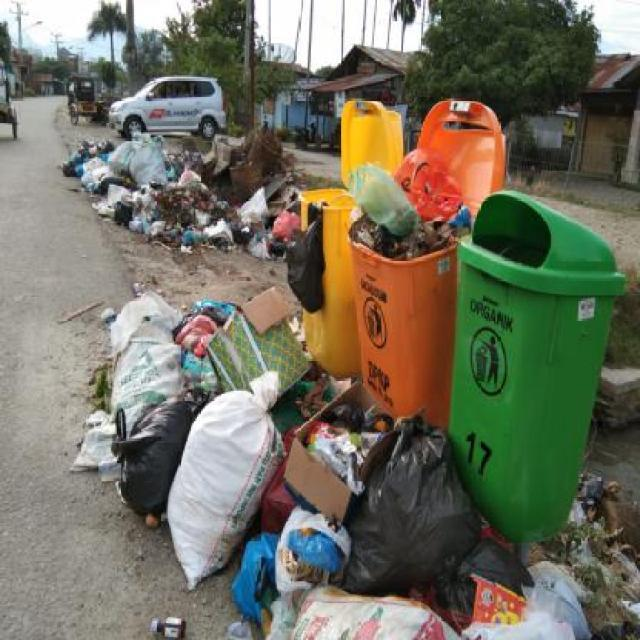garbage container: (443, 183, 631, 551), (351, 209, 449, 432), (293, 183, 366, 388)
